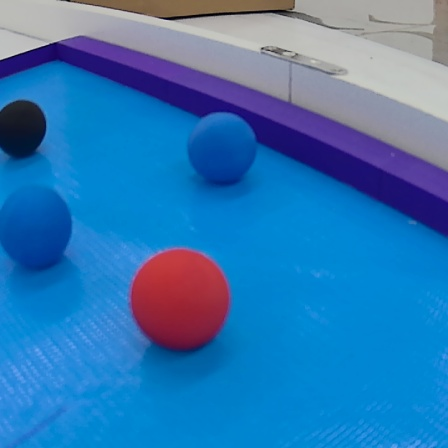black: (2, 93, 55, 163)
blue: (3, 178, 75, 275), (184, 112, 263, 185)
blue_aim: (5, 31, 448, 448)
red: (128, 241, 236, 358)
